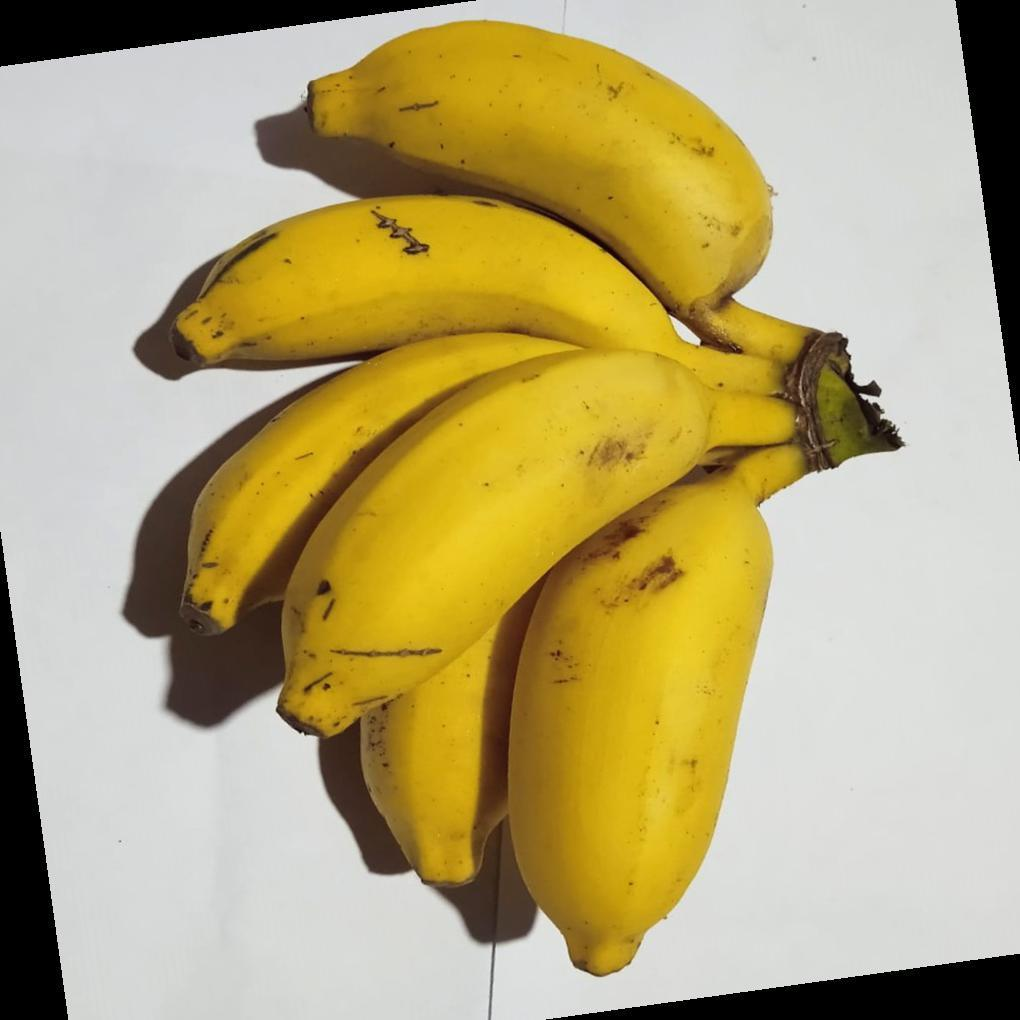Banana Ripe: (499, 328, 900, 1020), (142, 334, 699, 821), (291, 20, 814, 324), (139, 167, 743, 400)
